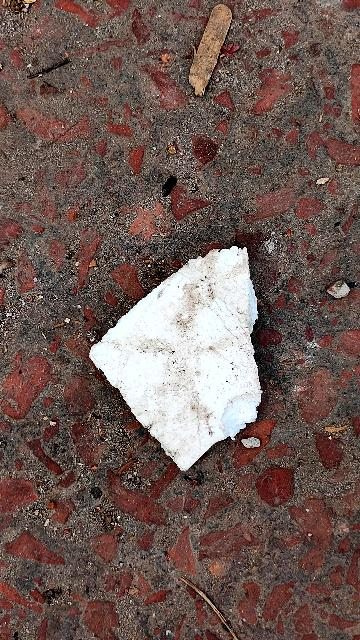cocksheet: (75, 229, 333, 488)
